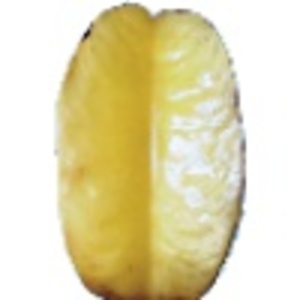carambola: (54, 3, 247, 300)
